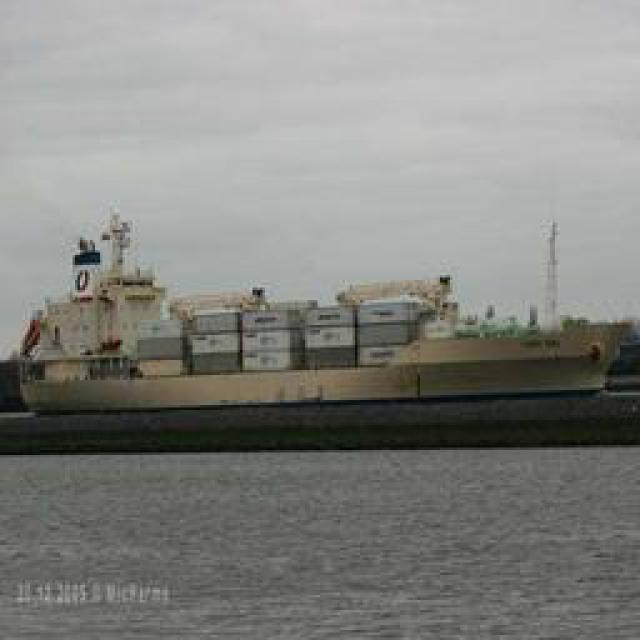Ship: (5, 210, 620, 423)
